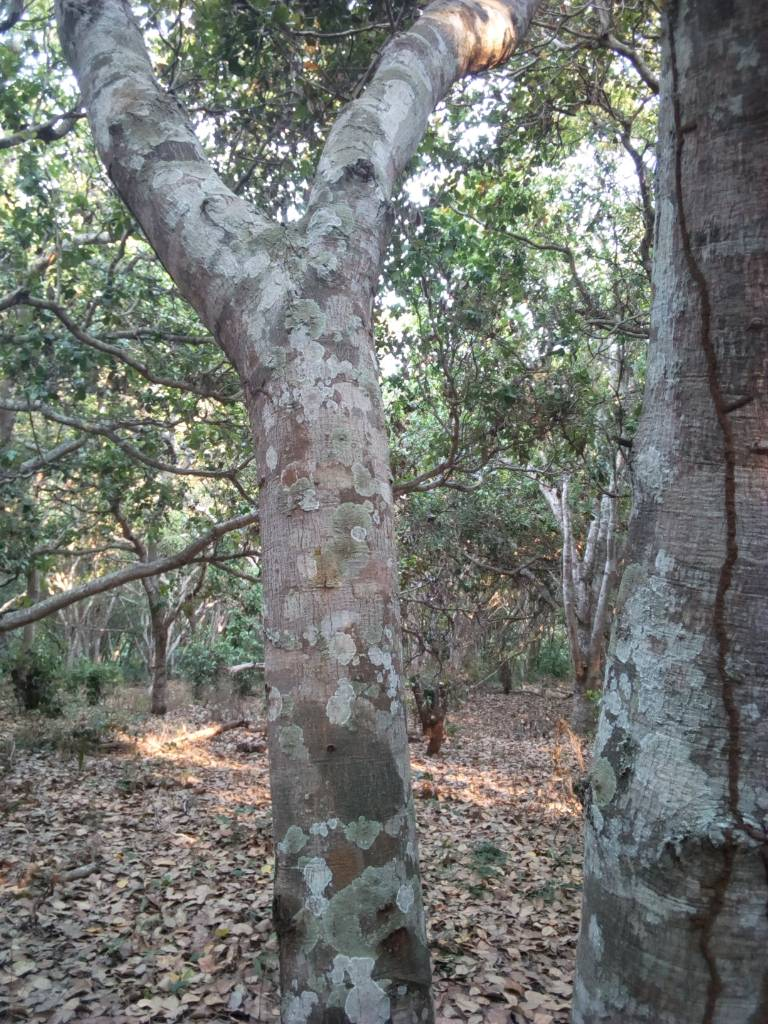Termites: (696, 278, 757, 1019), (669, 22, 708, 271)
